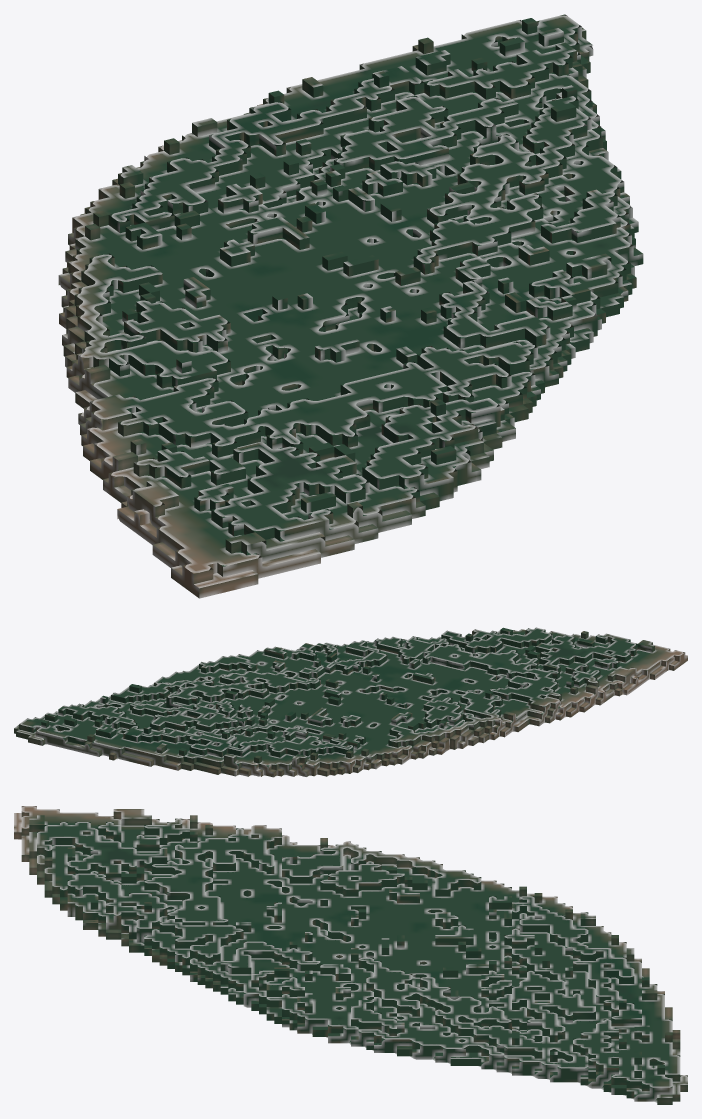
Rendered from CavernaIara.fbx.
3 renders of one model, top to bottom at view 1: azimuth 30°, elevation 25°; view 2: azimuth 150°, elevation 25°; view 3: azimuth 270°, elevation 25°, orthographic. The views are drawn at different scales.
Parts seen in each view (by area): view 1: CavernaIara; view 2: CavernaIara; view 3: CavernaIara.
Part boxes in pixels (<box>): CavernaIara: <box>58,14,643,598</box>; CavernaIara: <box>14,627,687,777</box>; CavernaIara: <box>14,806,687,1104</box>.
Size of the model in its own units: 8.8 by 0.4 by 8.8.
